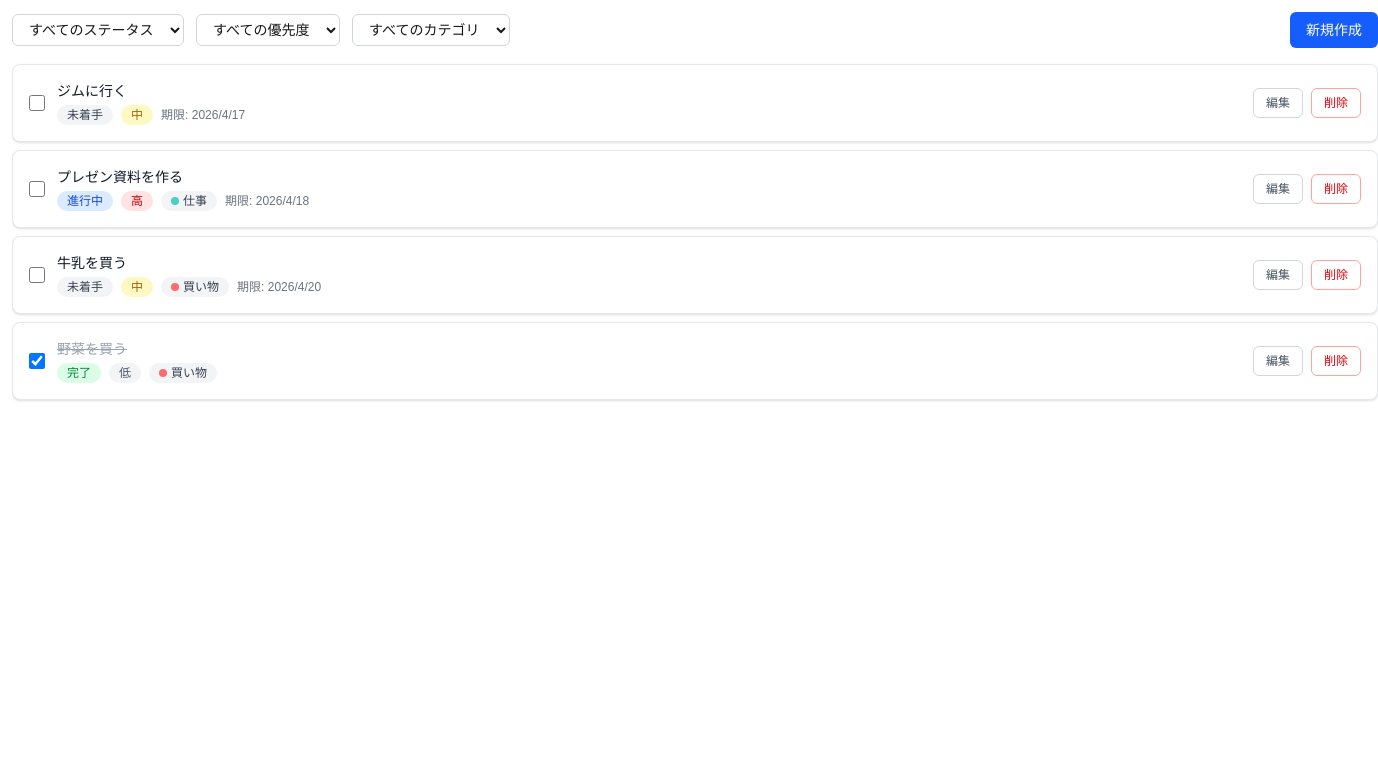
Scenario: TodoList › チェックボックスで完了切り替えできる
Check: the heading "牛乳を買う" is shown, box [57,253,127,273]
Click the 1st checkbox: [37, 103] box [29,95,45,111]
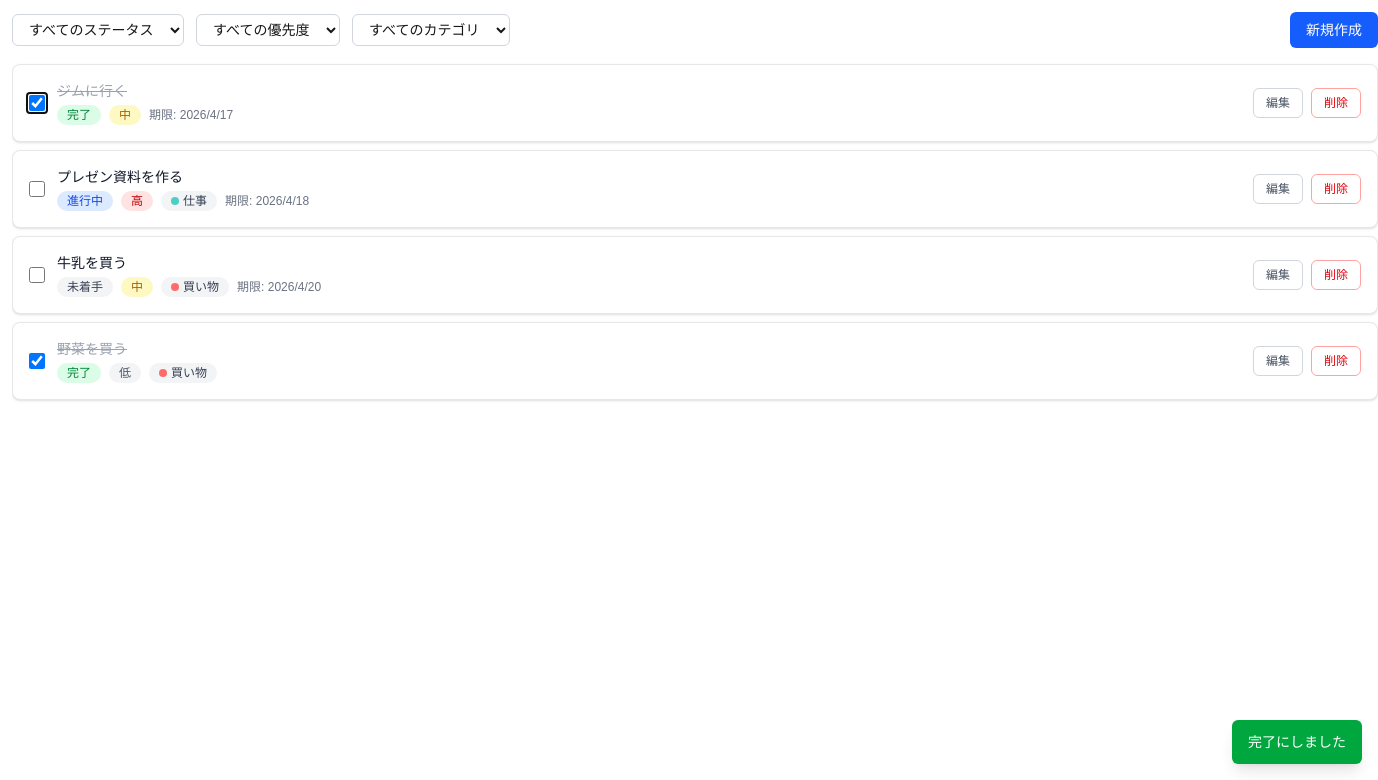
Check: the text "完了にしました" is shown, box [1232,720,1362,764]
